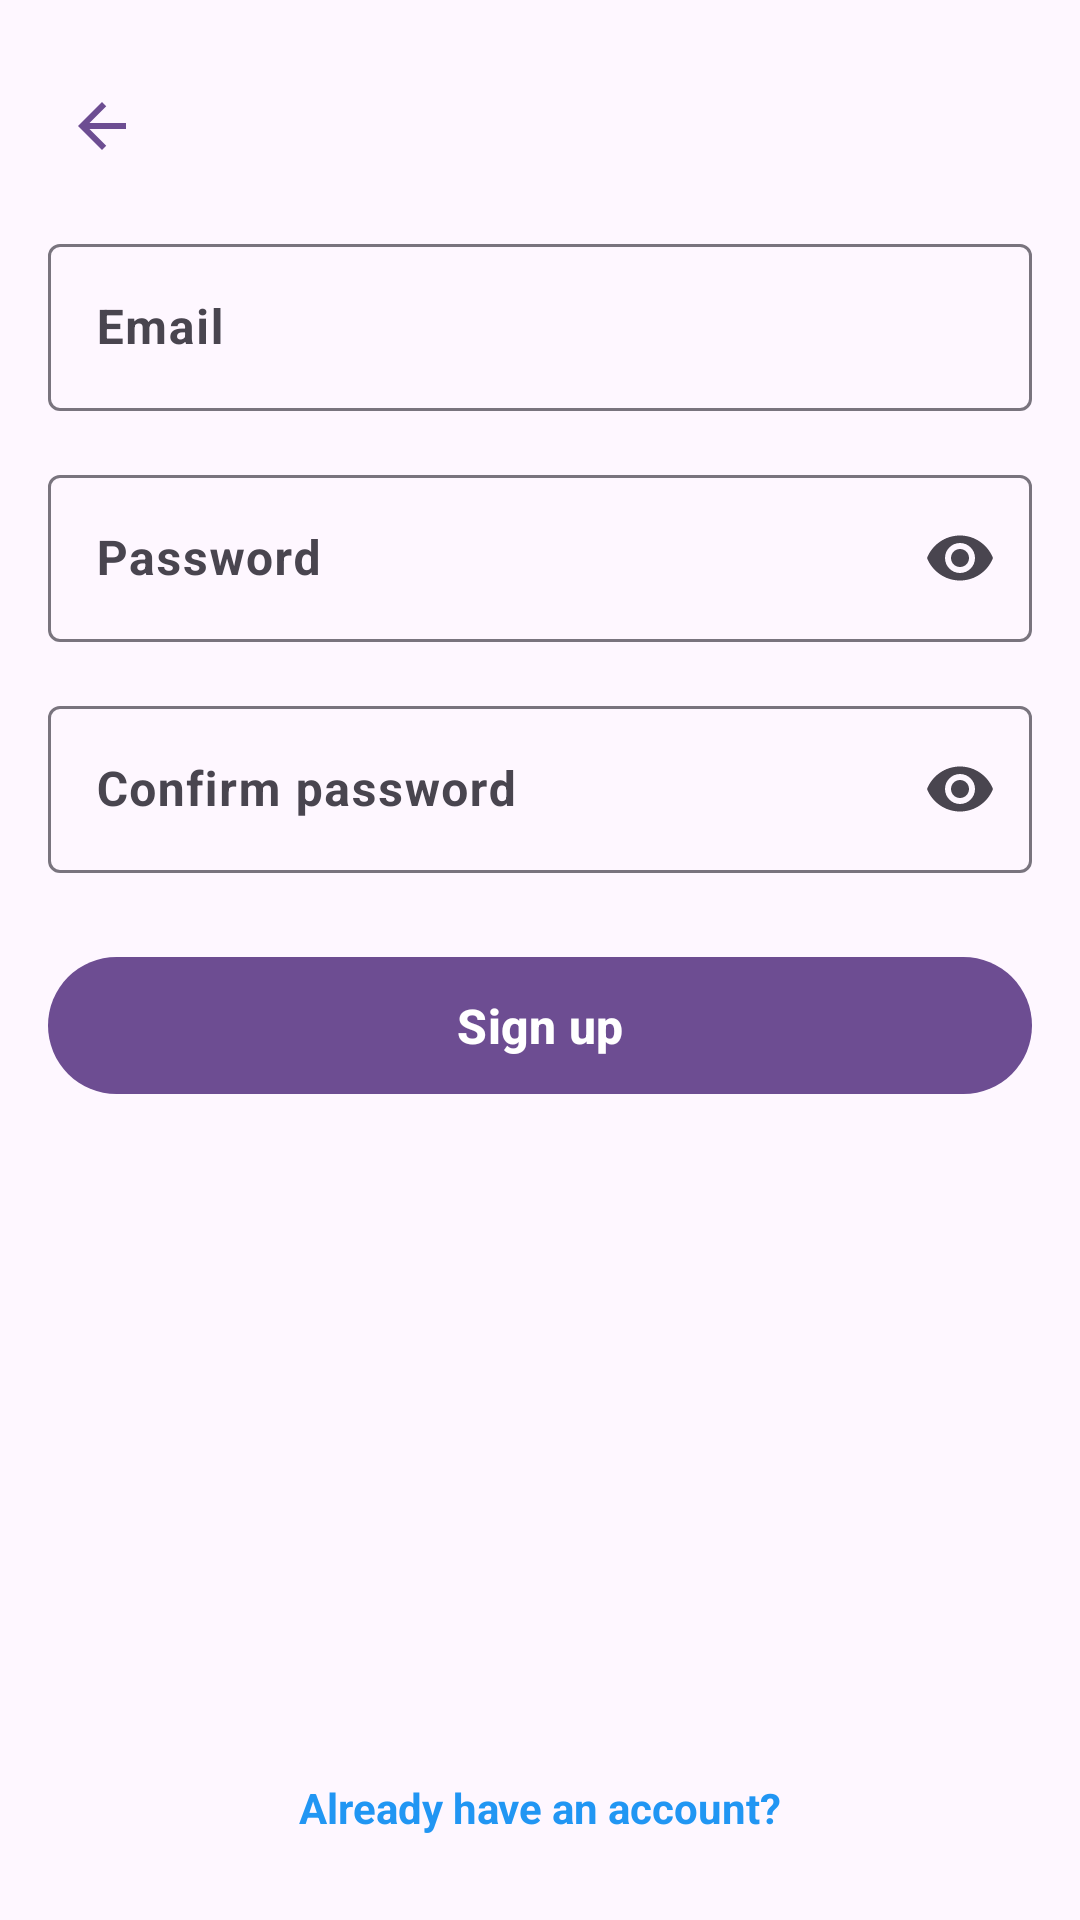

Where icons sit on this 1080px×1920px app screen, as (x1=x1, y1=y1, x2=x2, y2=y2):
arrow back: (x1=78, y1=102, x2=126, y2=150)
